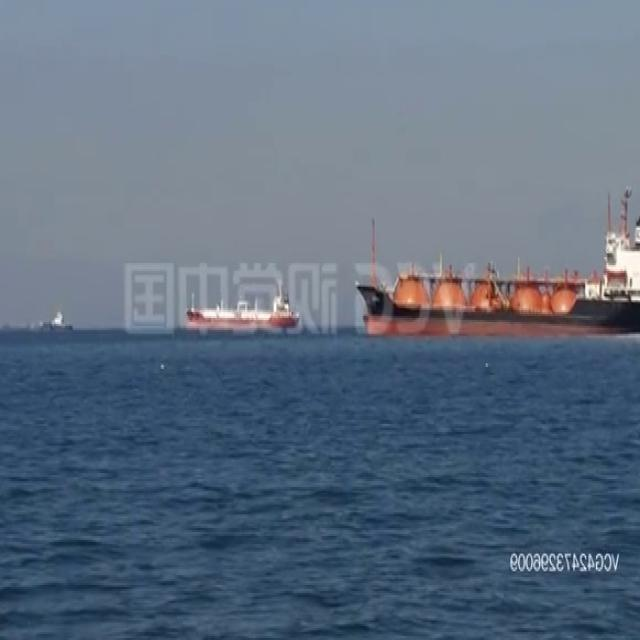cargoship: (356, 178, 640, 338), (185, 280, 302, 338), (38, 304, 77, 332)
